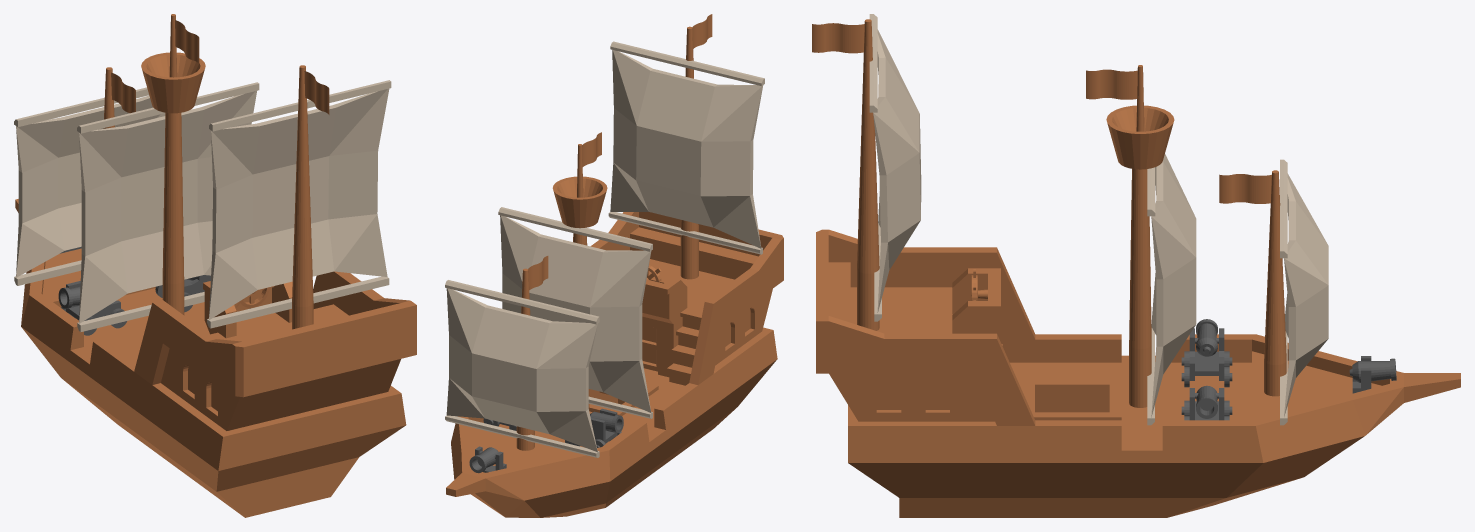
Rendered from ship_light.glb.
3 views of the same model, side by side, from view 1: azimuth 30°, elevation 25°; view 2: azimuth 150°, elevation 25°; view 3: azimuth 270°, elevation 25° (orthographic). The views are drawn at different scales.
Parts seen in each view (by area): view 1: ship_light, sail_back 1, sail_middle 1, sail_front 1, cannon_left 1; view 2: ship_light, sail_back 1, sail_front 1, sail_middle 1, cannon_left 1 (×2), cannon_front 1; view 3: ship_light, sail_back 1, sail_middle 1, sail_front 1, cannon_left 1 (×2), cannon_front 1.
Part boxes in pixels (x1,y1,x2,y2): ship_light: (15, 14, 416, 517); sail_back 1: (207, 80, 391, 328); sail_middle 1: (77, 82, 259, 331); sail_front 1: (14, 87, 165, 285); cannon_left 1: (66, 281, 120, 320); ship_light: (446, 14, 783, 517); sail_back 1: (608, 41, 764, 254); sail_front 1: (445, 280, 599, 457); sail_middle 1: (498, 207, 652, 418); cannon_left 1 (×2): (590, 408, 623, 443); cannon_front 1: (469, 447, 498, 473); ship_light: (812, 19, 1460, 517); sail_back 1: (869, 14, 921, 321); sail_middle 1: (1147, 154, 1196, 425); sail_front 1: (1280, 159, 1328, 425); cannon_left 1 (×2): (1189, 319, 1224, 380); cannon_front 1: (1349, 358, 1396, 382).
Size of the model in its own units: 28.5 by 65.46 by 80.98.
